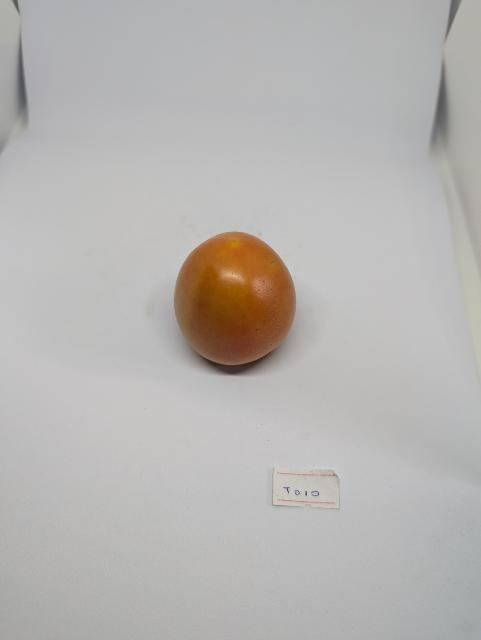turning: (165, 220, 307, 379)
